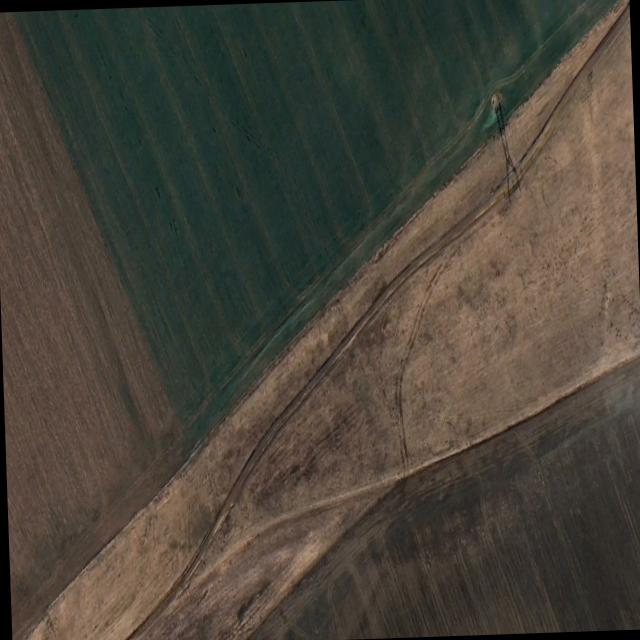bare-soil: (0, 0, 640, 640)
building: (491, 92, 522, 203)
grass: (5, 0, 619, 457)
